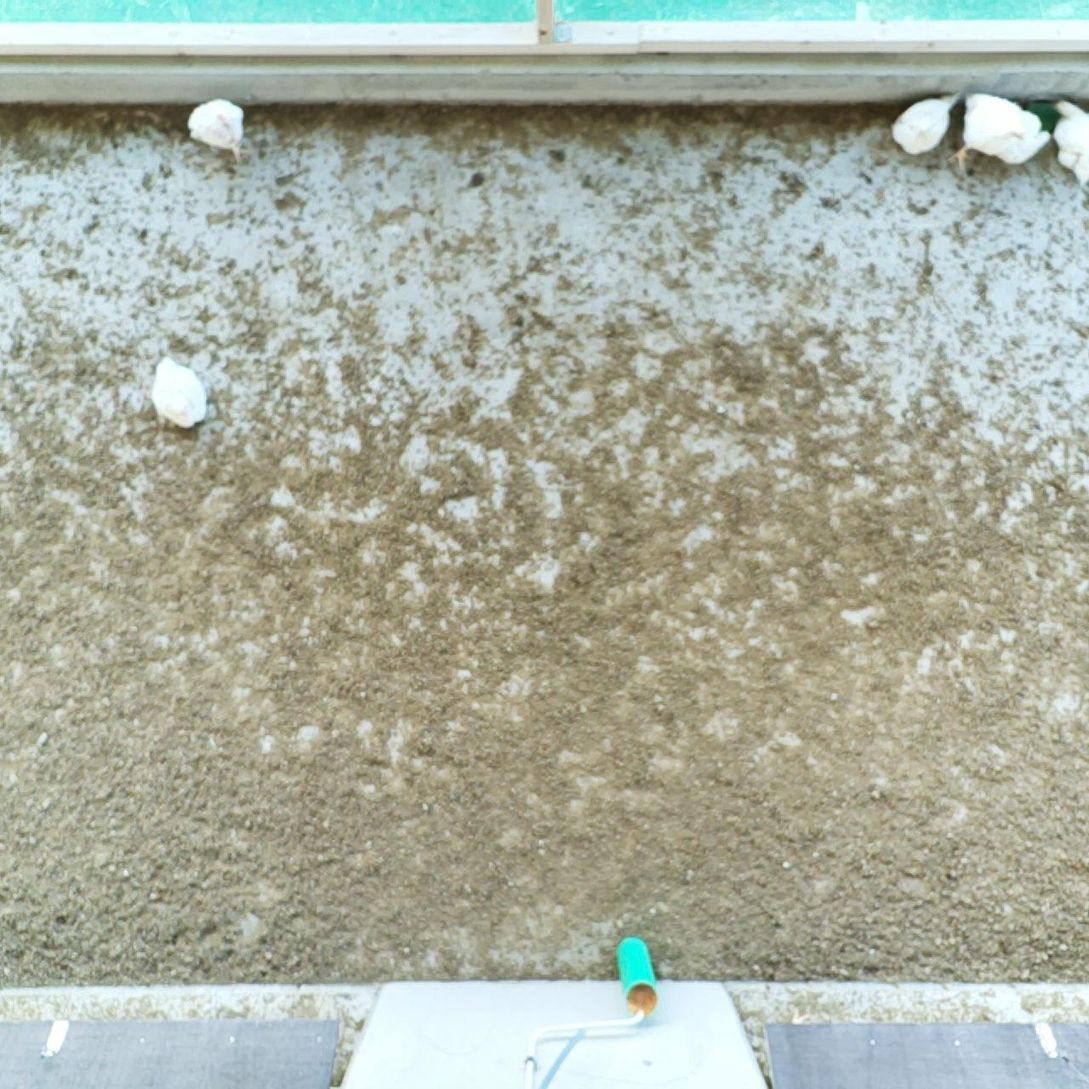chicken: (947, 88, 1053, 176), (147, 351, 212, 439), (181, 94, 259, 165), (887, 85, 961, 159), (1046, 94, 1089, 186)
